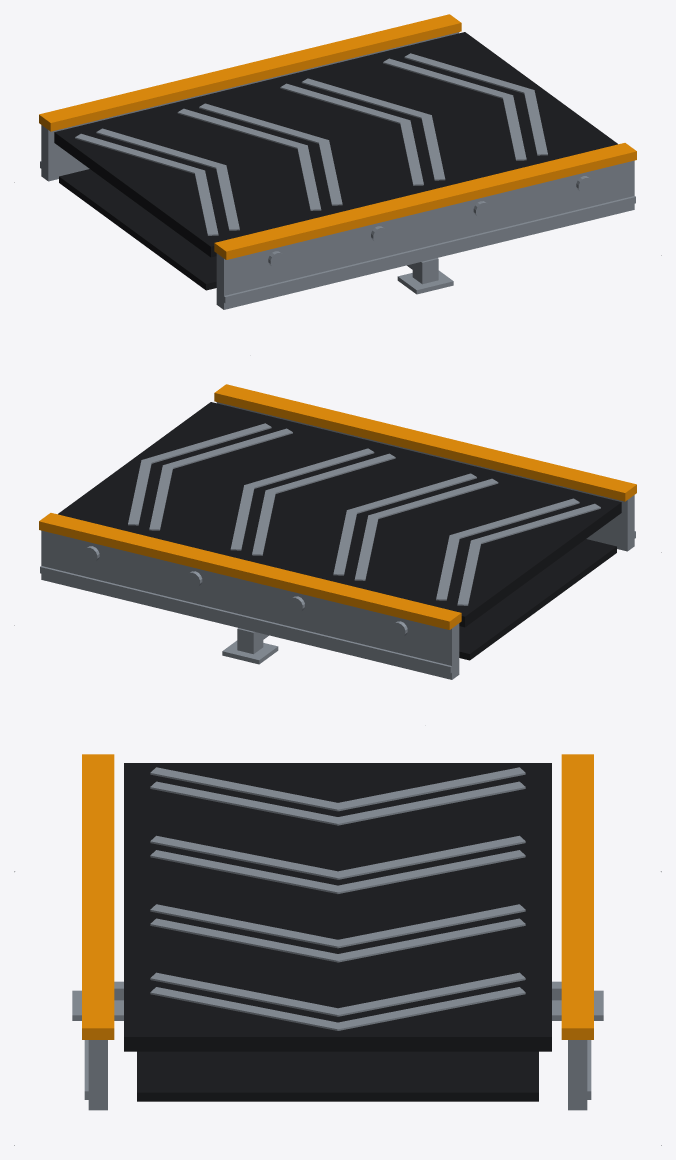
The model's file is convoyeur_t2.glb.
3 views of the same model, one above another, from view 1: azimuth 30°, elevation 25°; view 2: azimuth 150°, elevation 25°; view 3: azimuth 270°, elevation 25° (orthographic). The views are drawn at different scales.
Parts seen in each view (by area): view 1: pieces_noir.024, pieces_acier.048, pieces_rive_t2.006, bande_acier.042; view 2: pieces_noir.024, pieces_acier.048, pieces_rive_t2.006, bande_acier.042; view 3: pieces_noir.024, bande_acier.042, pieces_rive_t2.006, pieces_acier.048.
Part boxes in pixels (x1=…): pieces_noir.024: x1=54, y1=32, x2=617, y2=290; pieces_acier.048: x1=40, y1=32, x2=635, y2=309; pieces_rive_t2.006: x1=39, y1=14, x2=636, y2=259; bande_acier.042: x1=75, y1=53, x2=547, y2=235; pieces_noir.024: x1=58, y1=402, x2=621, y2=660; pieces_acier.048: x1=40, y1=402, x2=635, y2=679; pieces_rive_t2.006: x1=39, y1=384, x2=636, y2=629; bande_acier.042: x1=128, y1=423, x2=600, y2=605; pieces_noir.024: x1=124, y1=763, x2=551, y2=1101; bande_acier.042: x1=150, y1=767, x2=525, y2=1030; pieces_rive_t2.006: x1=82, y1=754, x2=593, y2=1039; pieces_acier.048: x1=72, y1=981, x2=603, y2=1110.
Size of the model in its own units: 1 by 0.2 by 1.
